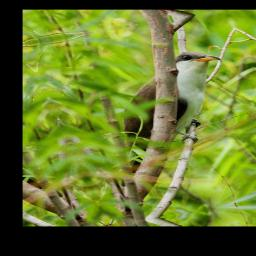Cuckoo: (57, 45, 256, 190)
